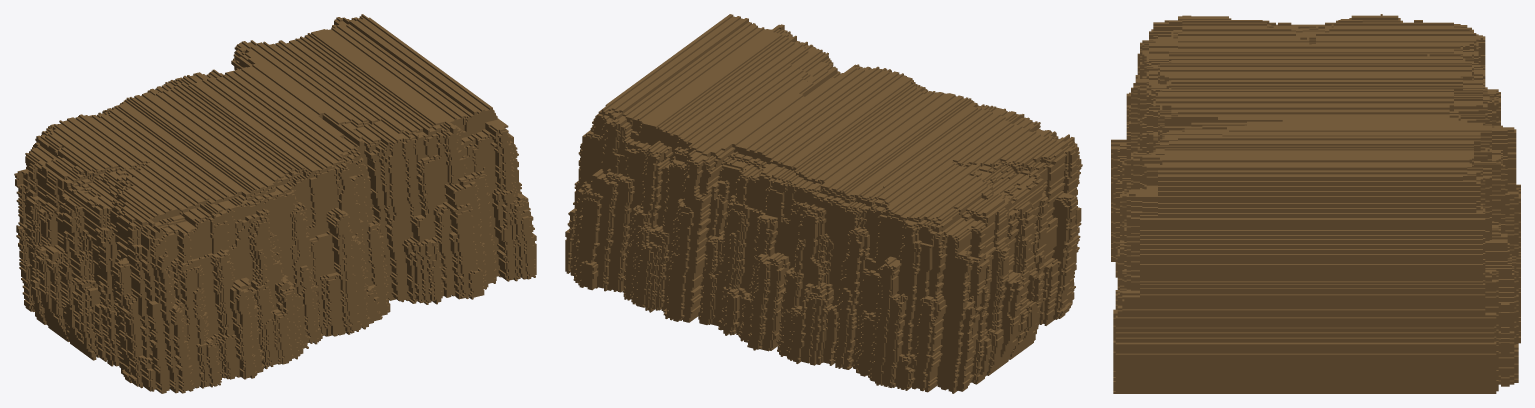
The model's file is forest1.1-158.obj.
3 renders of one model, left to right at view 1: azimuth 30°, elevation 25°; view 2: azimuth 150°, elevation 25°; view 3: azimuth 270°, elevation 25°, orthographic. The views are drawn at different scales.
Bounding box in the file's own units: 25.6 × 12.5 × 18.4.
1 material, 1 textured.
